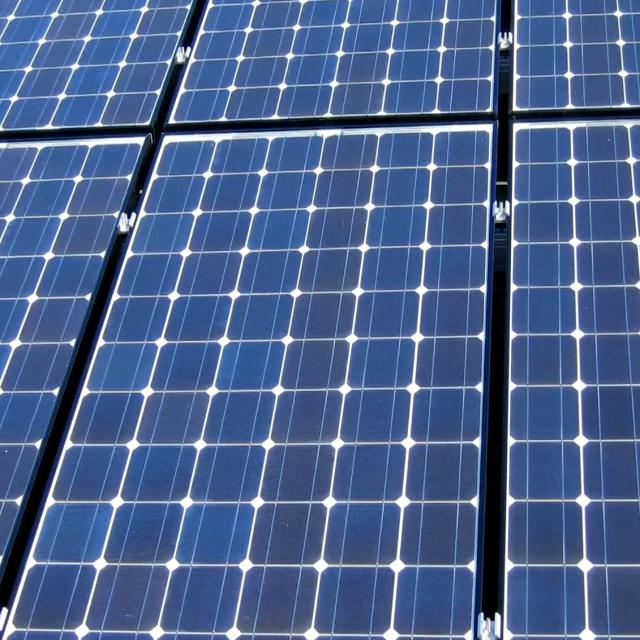crack: (7, 132, 480, 640), (497, 109, 640, 640)
